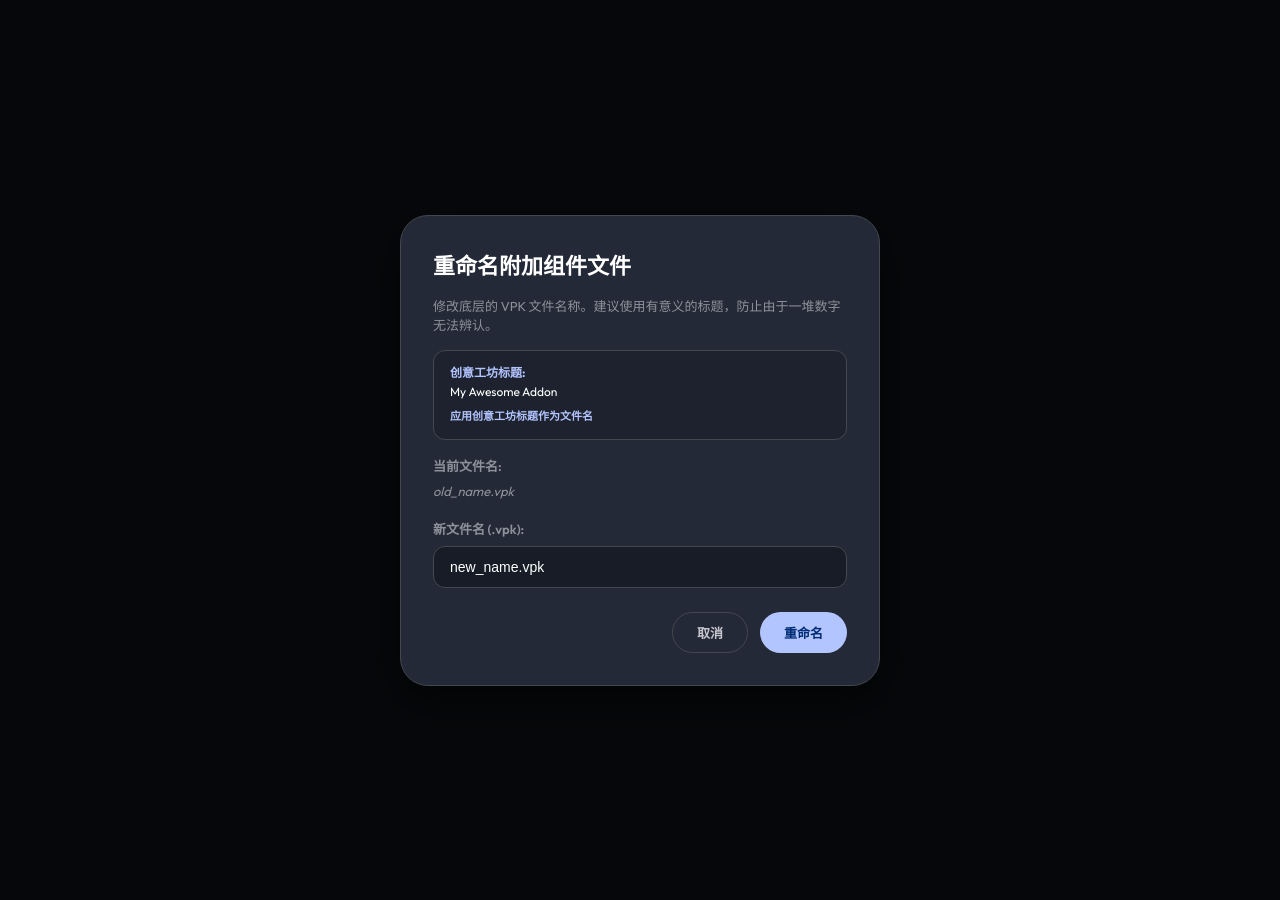
Test: RenameModal › clicking apply workshop title updates input to suggestion from helper
Click the button "应用创意工坊标题作为文件名": (522, 414) left=450, top=402, right=593, bottom=426
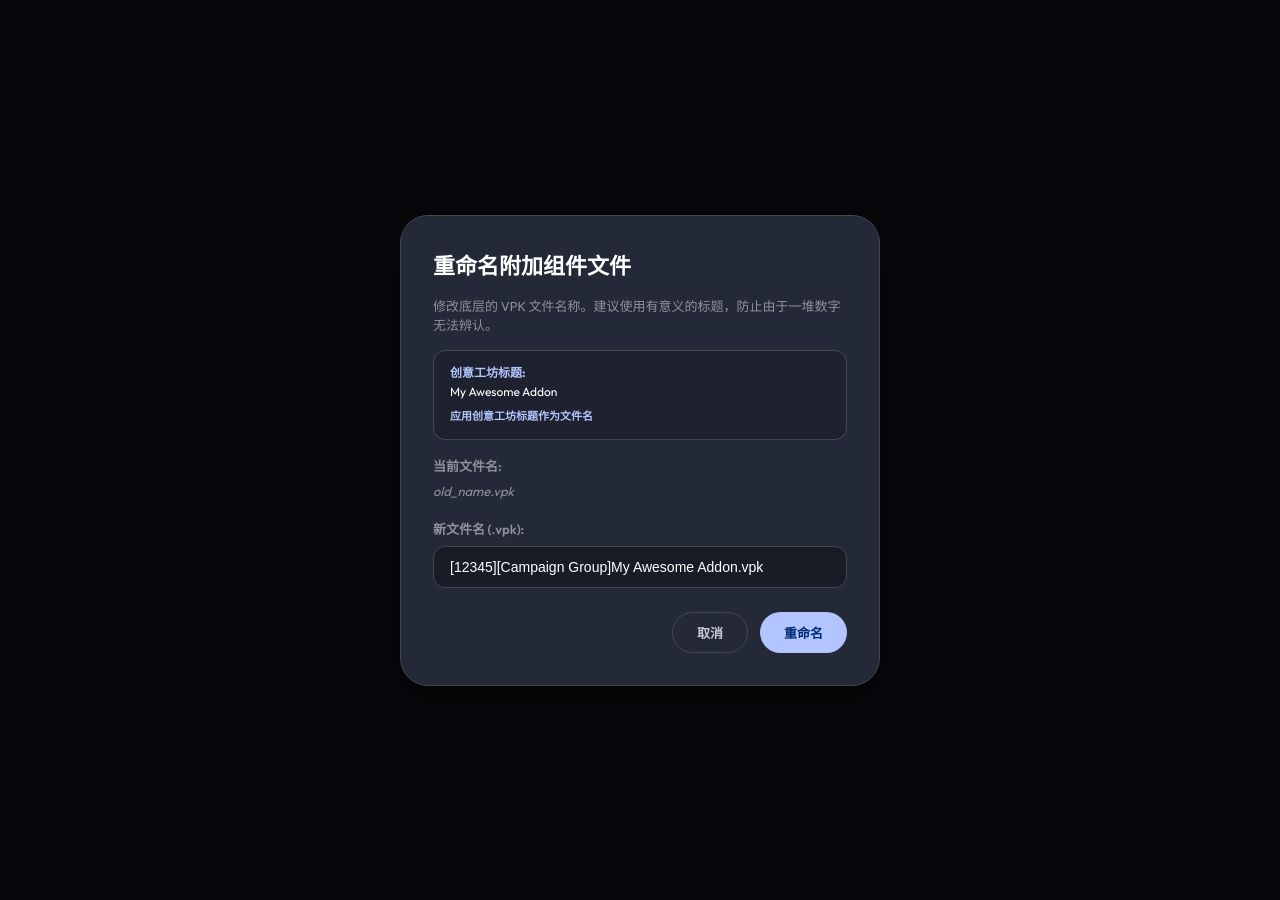
Now the field holds "[12345][Campaign Group]My Awesome Addon.vpk", box left=433, top=546, right=847, bottom=588
